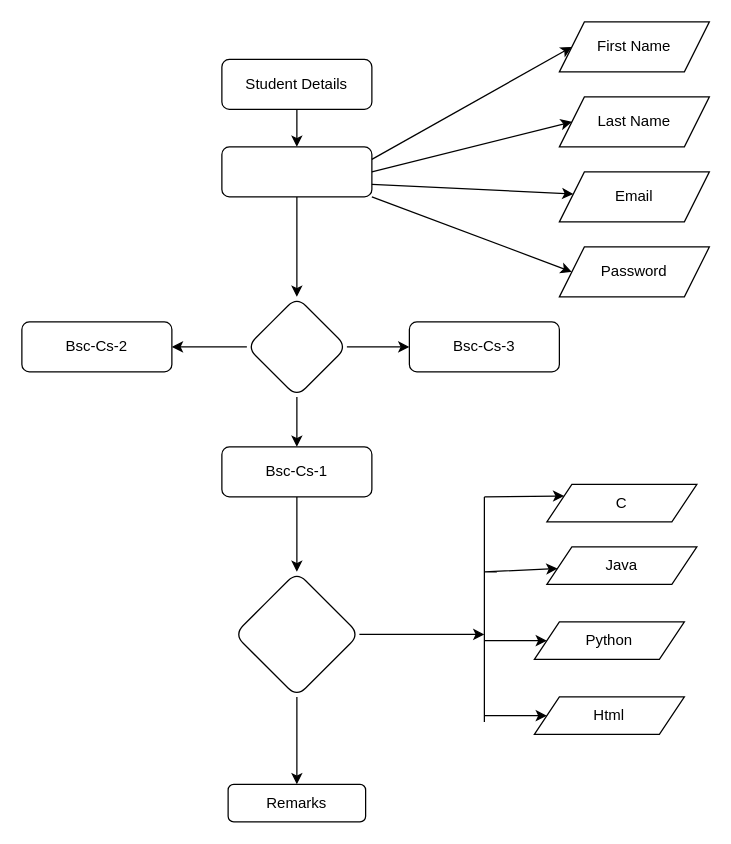
This 731x844 diagram has some shape labels left out. Each missing label, with the box of its shape:
Enter your Details: (221, 146, 372, 197)
Select One Skill to Learn: (233, 571, 359, 697)
Select Your Section: (246, 296, 347, 397)
